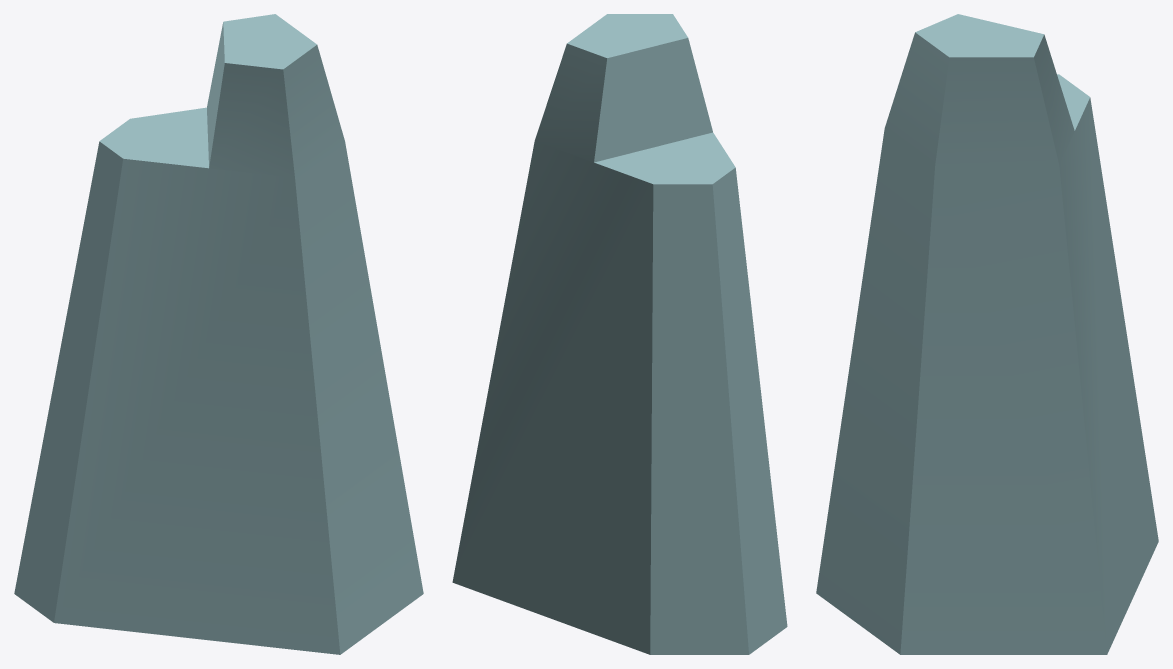
The model's file is stone_tall3.obj.
3 views of the same model, side by side, from view 1: azimuth 30°, elevation 25°; view 2: azimuth 150°, elevation 25°; view 3: azimuth 270°, elevation 25° (orthographic). The views are drawn at different scales.
Visible parts, largest first — view 1: stone_tall3; view 2: stone_tall3; view 3: stone_tall3.
Part boxes in pixels (x1,y1,x2,y2): stone_tall3: [14, 14, 423, 654]; stone_tall3: [452, 14, 787, 654]; stone_tall3: [816, 14, 1158, 654].
Size of the model in its own units: 4.56 by 7.83 by 4.37.
